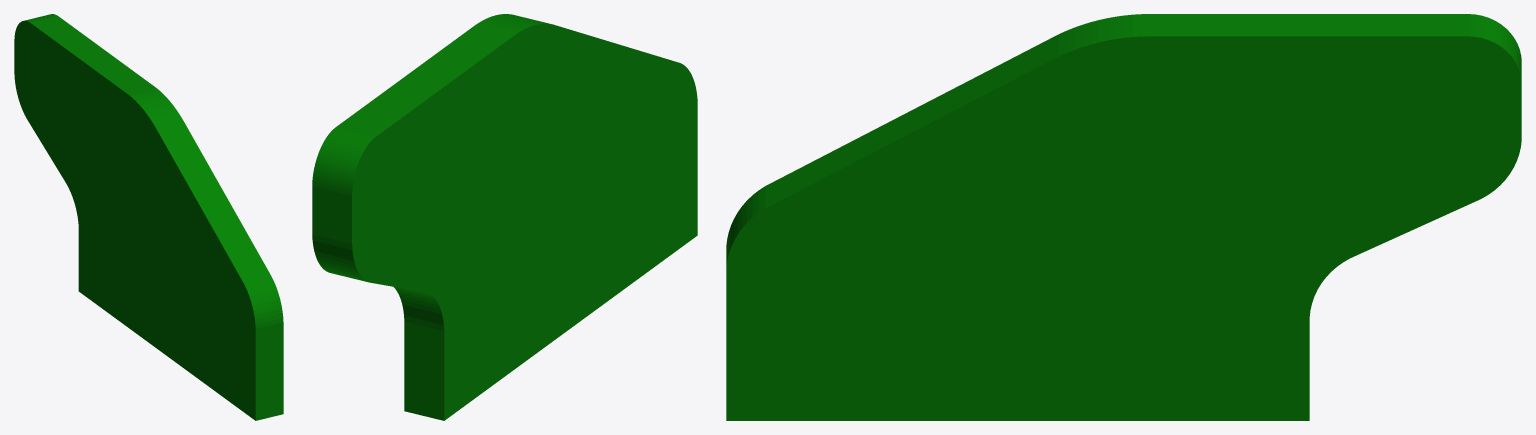
The model's file is original-1.obj.
The picture shows the model from 3 angles, left to right: view 1: azimuth 30°, elevation 25°; view 2: azimuth 150°, elevation 25°; view 3: azimuth 270°, elevation 25°; orthographic projection. The views are drawn at different scales.
Parts seen in each view (by area): view 1: Group1/mesh1/mesh1-geometry#mesh1-geometry; view 2: Group1/mesh1/mesh1-geometry#mesh1-geometry; view 3: Group1/mesh1/mesh1-geometry#mesh1-geometry.
Boxes of the visible parts, <box> form: Group1/mesh1/mesh1-geometry#mesh1-geometry: <box>14,14,283,420</box>; Group1/mesh1/mesh1-geometry#mesh1-geometry: <box>312,14,697,420</box>; Group1/mesh1/mesh1-geometry#mesh1-geometry: <box>726,14,1521,420</box>.
Size of the model in its own units: 0.0322 by 0.2575 by 0.4829.
